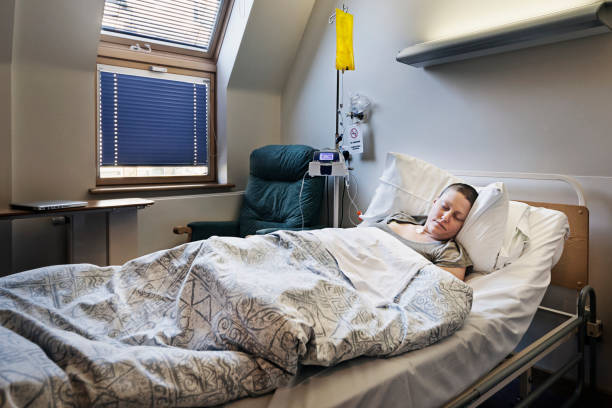bedside_monitor: (308, 155, 340, 170)
computer: (15, 198, 89, 211)
hospital_bed: (1, 170, 602, 408)
iv_pole: (328, 1, 357, 224)
patient: (365, 182, 481, 283)
sofa: (172, 145, 324, 239)
table: (1, 196, 154, 265)
